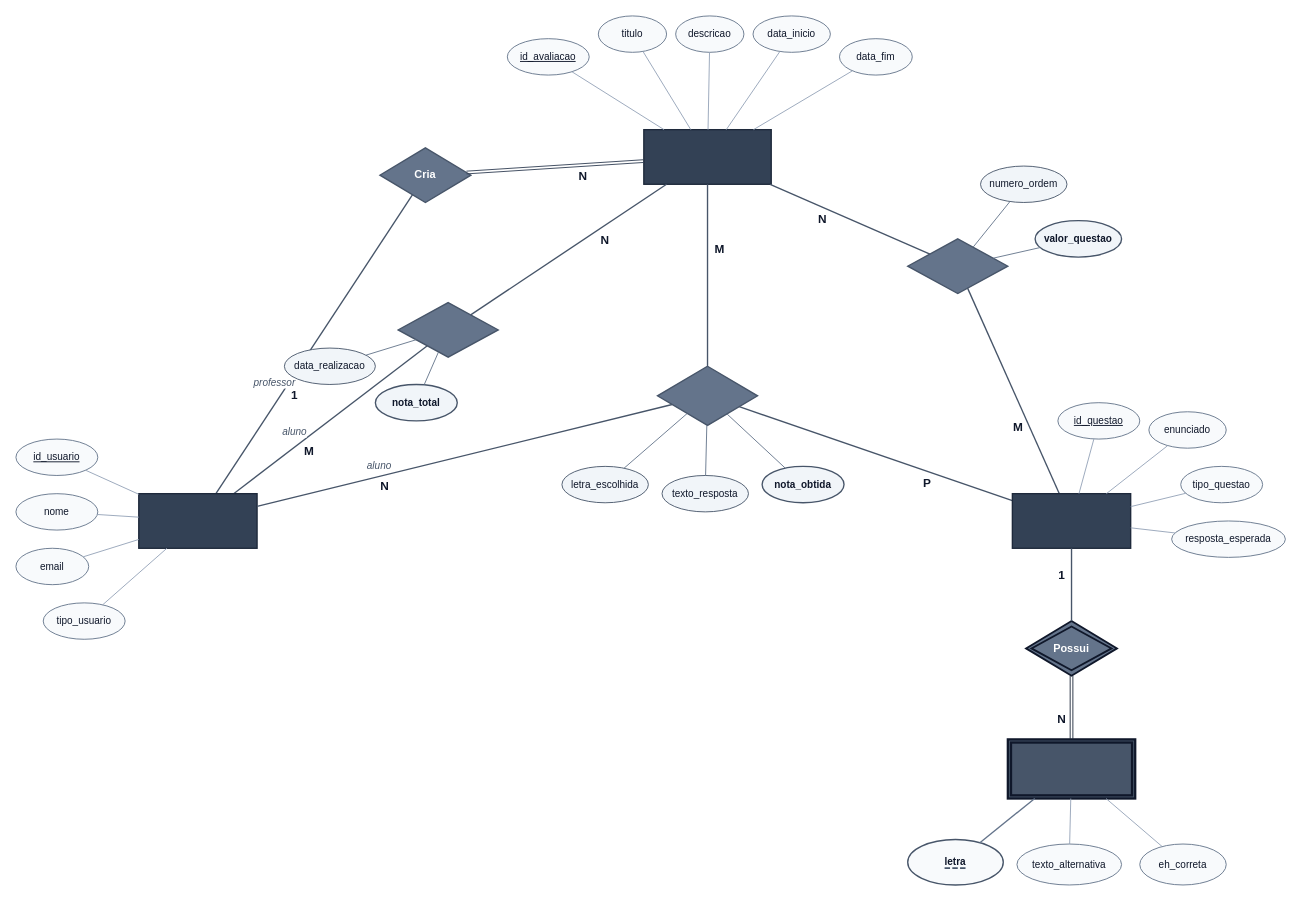
This 1301x902 diagram has some shape labels left out. The centre of each missing label's shape, as x and y in pixels:
Alternativa: (1071,768)
Atribuição: (447,329)
Avaliacao: (707,157)
Composição: (957,266)
Questao: (1071,521)
Resposta (Ternário): (707,395)
Usuario: (197,521)
